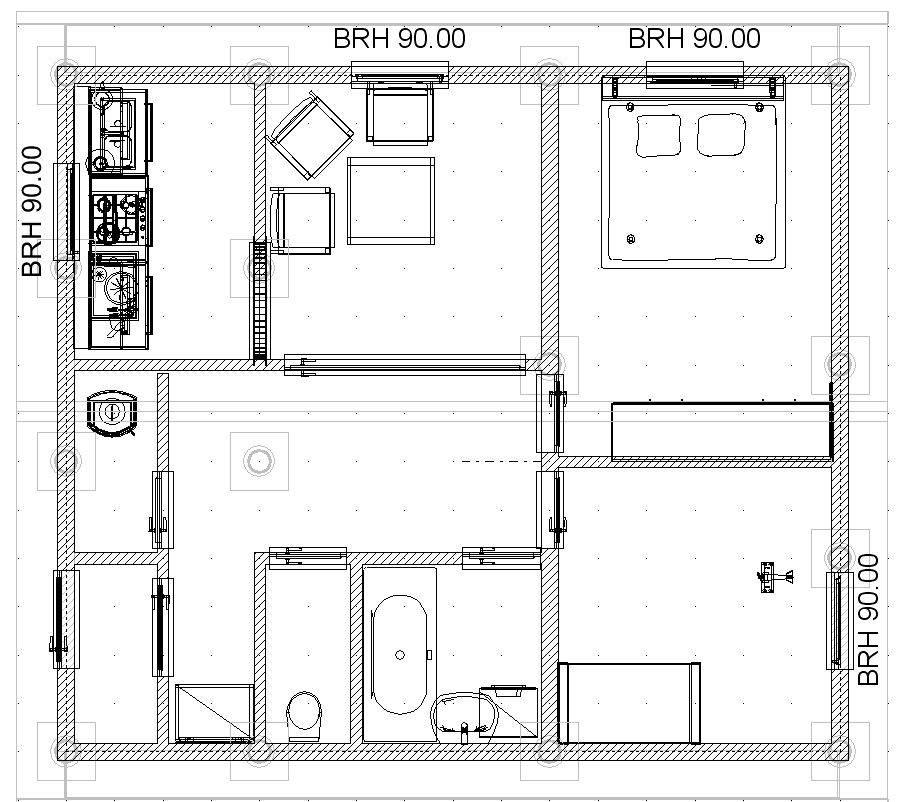bathroom: (362, 567, 543, 744)
bedroom: (560, 83, 831, 456), (557, 467, 834, 743)
hallway: (170, 370, 537, 746)
kitchen: (72, 86, 253, 360)
living_room: (266, 84, 542, 356)
toilet: (266, 567, 351, 746)
utility_room: (76, 372, 158, 554)
walk_in_closet: (73, 564, 158, 746)
